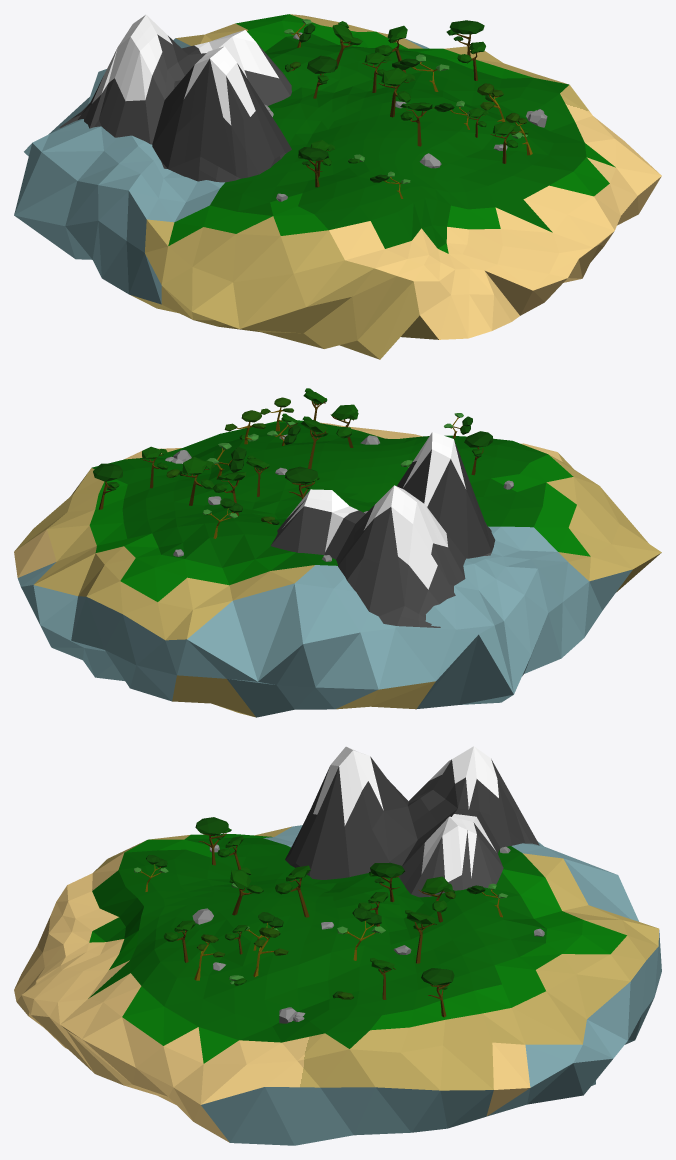
Rendered from Island2_Mod.fbx.
The picture shows the model from 3 angles, top to bottom: view 1: azimuth 30°, elevation 25°; view 2: azimuth 150°, elevation 25°; view 3: azimuth 270°, elevation 25°; orthographic projection. The views are drawn at different scales.
Visible parts, largest first — view 1: Icosphere.001; view 2: Icosphere.001; view 3: Icosphere.001.
Boxes of the visible parts, box(x1,y1,x2,y2) form: Icosphere.001: box(14, 14, 661, 359); Icosphere.001: box(14, 388, 661, 717); Icosphere.001: box(14, 746, 661, 1145).
Size of the model in its own units: 4979 by 2056 by 5283.
